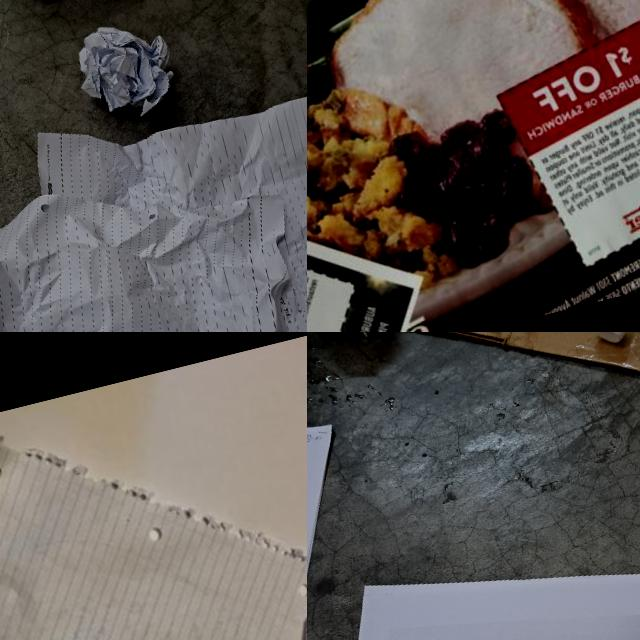caixinha: (311, 332, 395, 347)
papel: (307, 0, 640, 332), (0, 56, 307, 332), (0, 367, 307, 640), (307, 496, 640, 640), (307, 398, 377, 640), (70, 7, 182, 122)
papelão: (380, 332, 640, 474)
tampa plástica: (587, 332, 627, 347)
